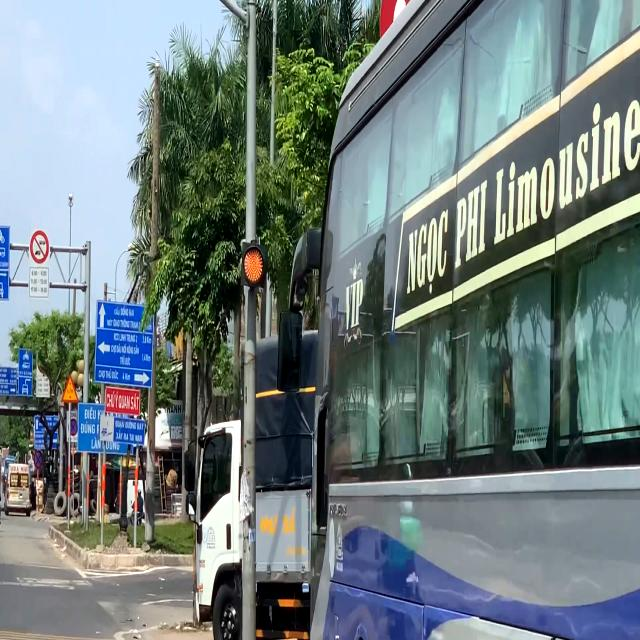S.509a: (60, 372, 79, 406)
